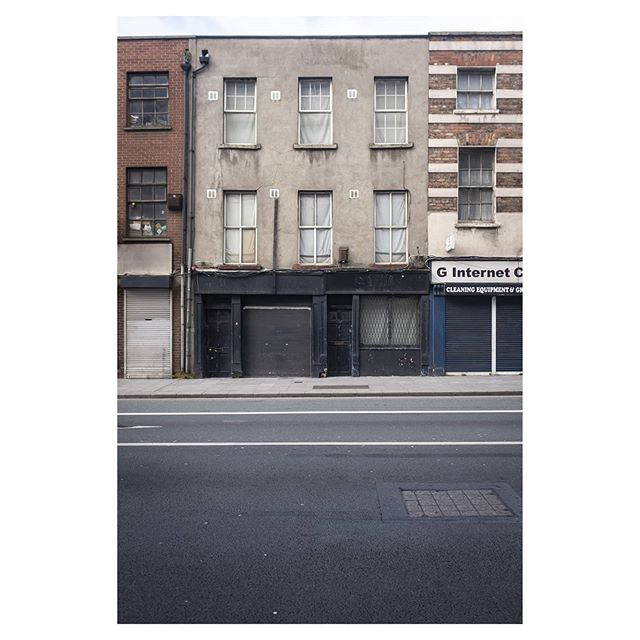building: (195, 41, 428, 377), (429, 37, 521, 371), (121, 34, 191, 381)
street: (115, 396, 521, 624)
